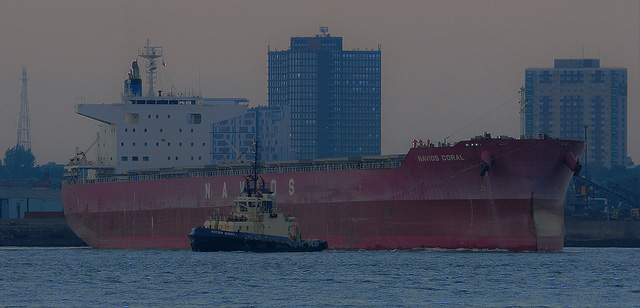bulk carrier: (62, 41, 582, 250)
tug_boat: (189, 141, 328, 252)
